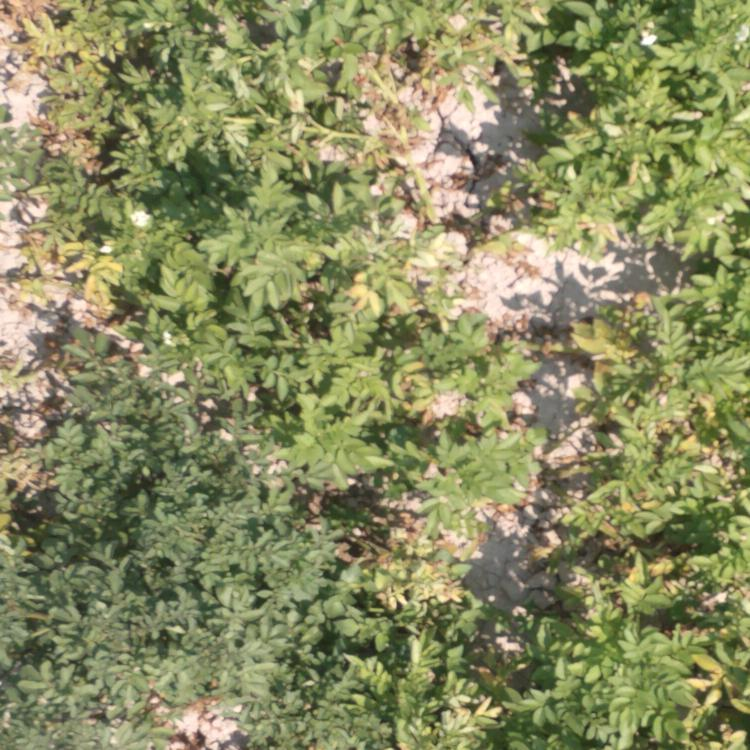healthy: (8, 345, 330, 750), (351, 344, 550, 750), (189, 1, 382, 329), (513, 3, 743, 246), (555, 532, 743, 750), (382, 1, 515, 78)
stressed: (10, 1, 171, 323), (581, 261, 750, 517)
